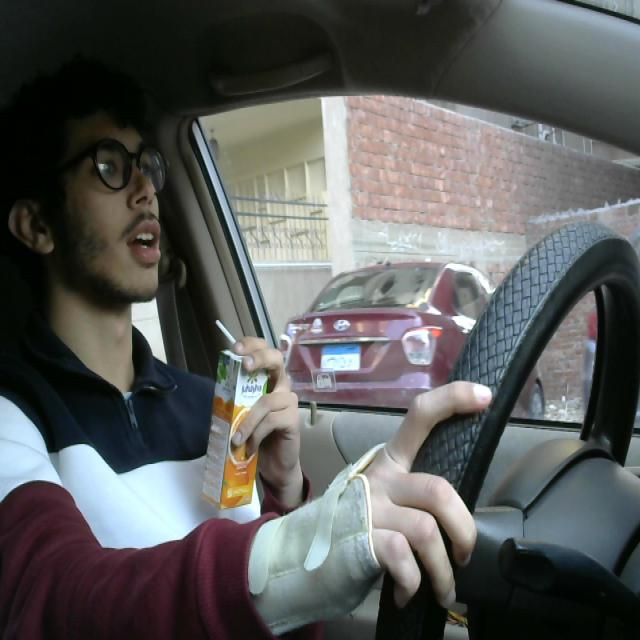drinking: (198, 310, 270, 508)
